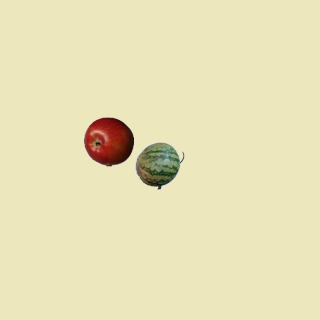Apple Braeburn: (83, 116, 133, 166)
Watermelon: (134, 140, 184, 190)
